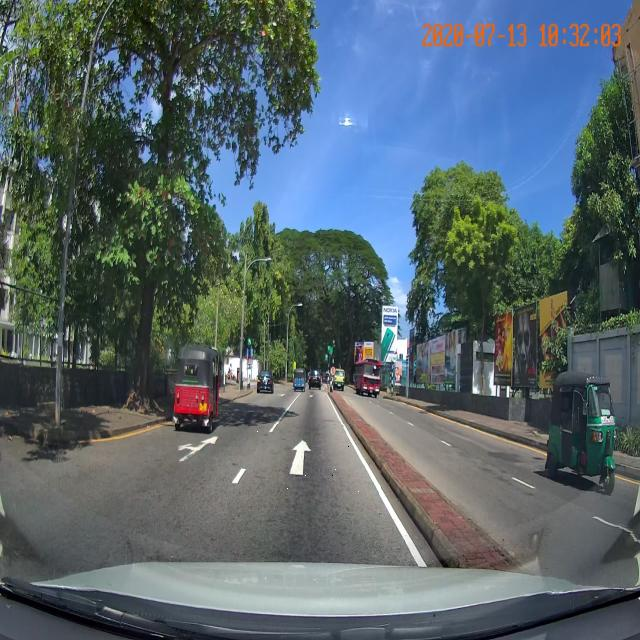diamond: (226, 425, 381, 493)
